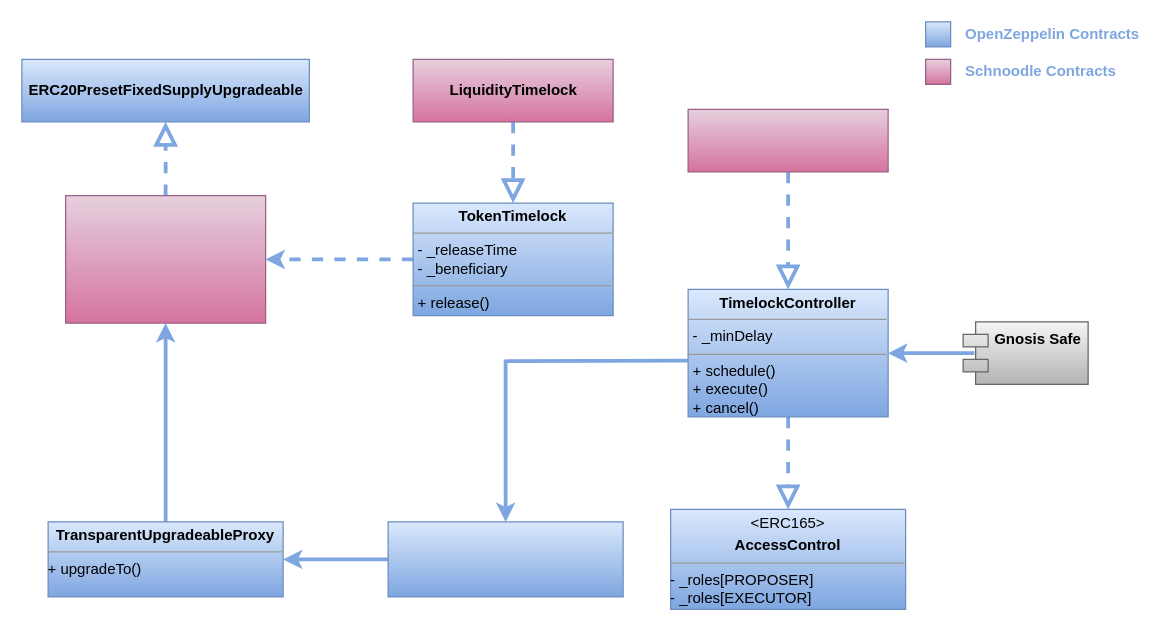
Some shapes in this 1173 by 631 pixel diagram are drawn without their labels. The shapes that lost their labels are listed below. From the top down, each one's centre as x and y in pixels, then its label:
(x=787, y=140): SchnoodleGovernance
(x=165, y=258): Schnoodle - _feesWallet - _feePercent + balanceOf() + balanceOfBurnable()
(x=505, y=559): ProxyAdmin + transferOwnership() + upgrade()
